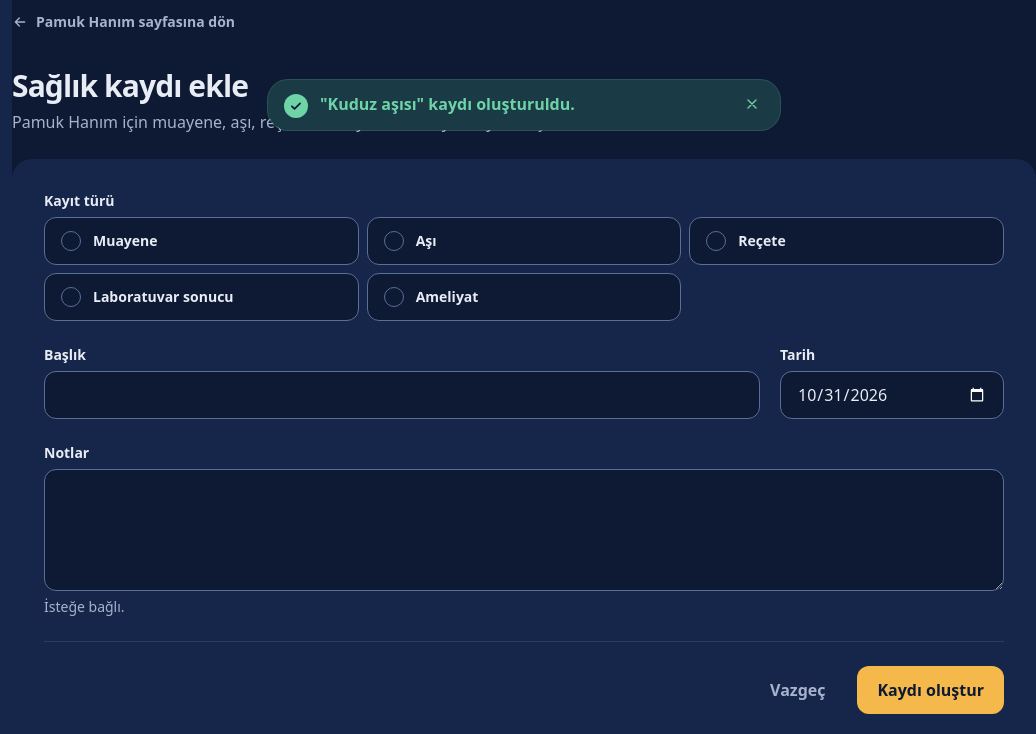
Test: RecordCreatePage › sunucu ayrıntısız 400 dönerse genel uyarı gösterir
The width and height of the screenshot is (1036, 734).
Click the radio button labelled "Muayene" at (71, 241), box [61,231,81,251]
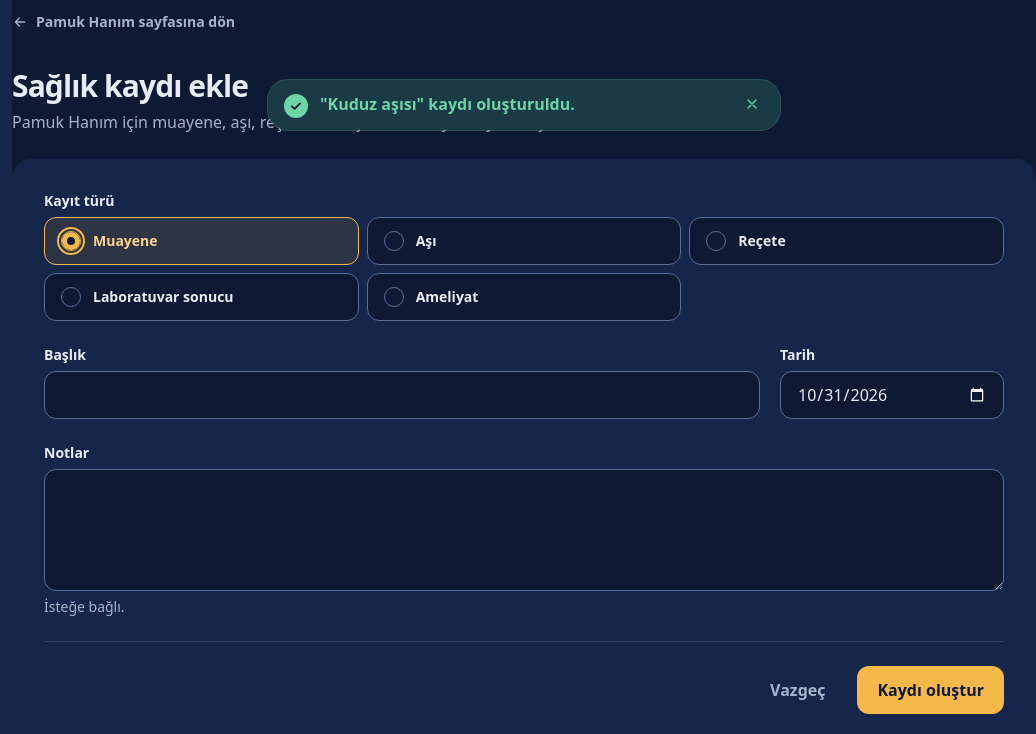
Type "Genel kontrol" into the field labelled "Başlık" at (402, 395), box [44,371,760,419]
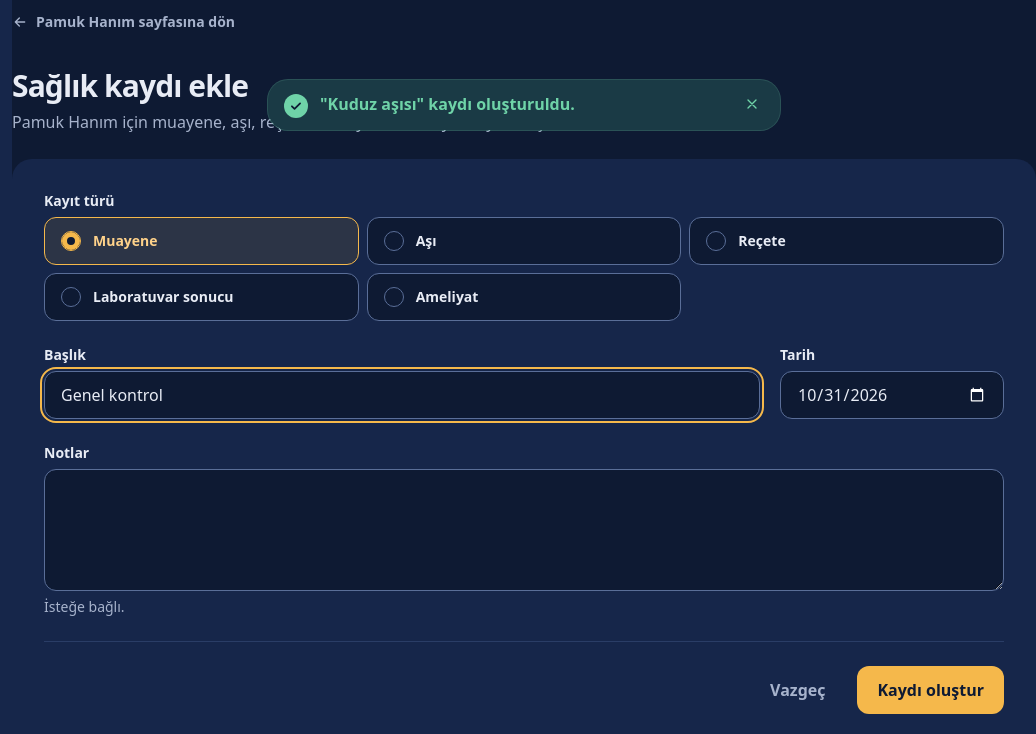
Click the button "Kaydı oluştur" at (931, 690), box [858,666,1004,714]
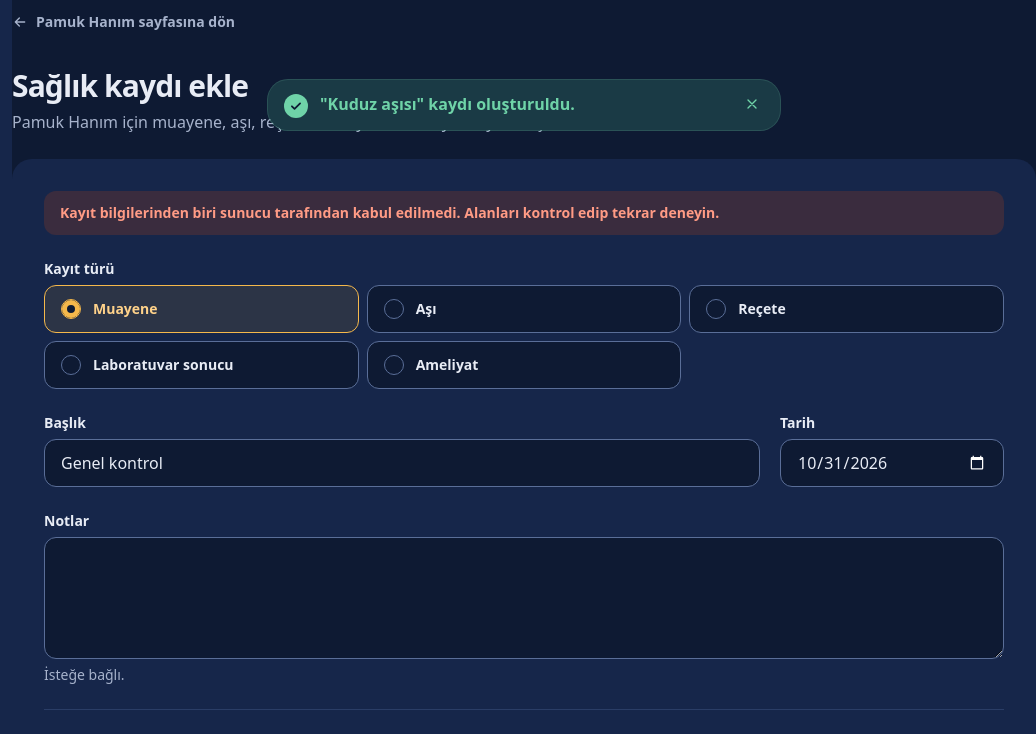
Result: the 2nd message shows "Kayıt bilgilerinden biri sunucu tarafından kabul edilmedi." at [60,203,719,222]
